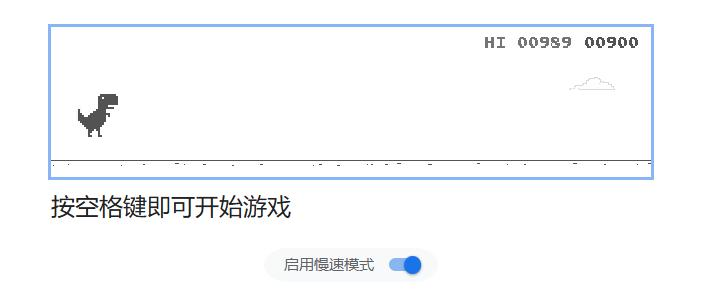dino: (75, 92, 119, 138)
